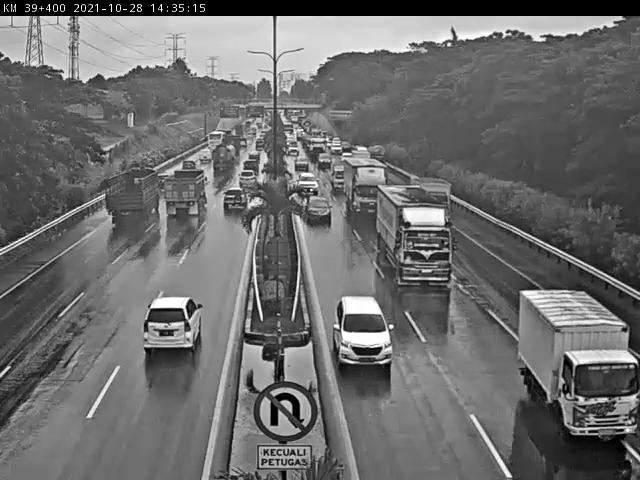big bus: (204, 130, 221, 151), (287, 138, 300, 157)
big truck: (382, 179, 446, 274), (97, 164, 164, 238), (343, 159, 397, 219), (167, 169, 202, 220), (213, 145, 236, 175)
car: (134, 286, 221, 379), (335, 290, 385, 349), (306, 195, 331, 224), (222, 184, 242, 217), (236, 174, 259, 195), (296, 165, 313, 190), (236, 163, 264, 175), (329, 160, 340, 186), (190, 150, 208, 164), (171, 163, 192, 175), (295, 154, 310, 168), (220, 132, 233, 146), (244, 152, 258, 164), (321, 150, 328, 166)
small truck: (520, 286, 640, 448)
